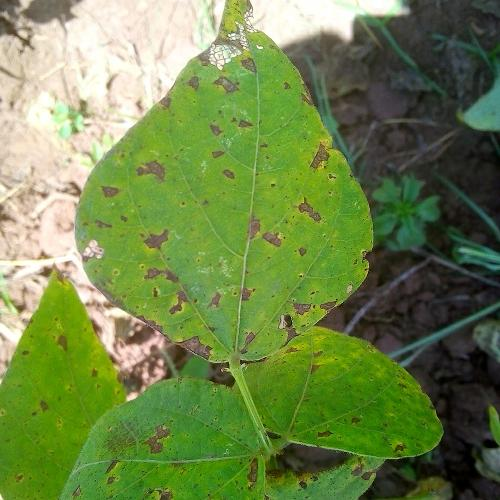hawar: (128, 105, 361, 356)
mozaik: (197, 7, 265, 74)
